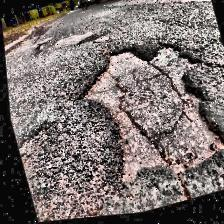pothole: (66, 29, 224, 199)
